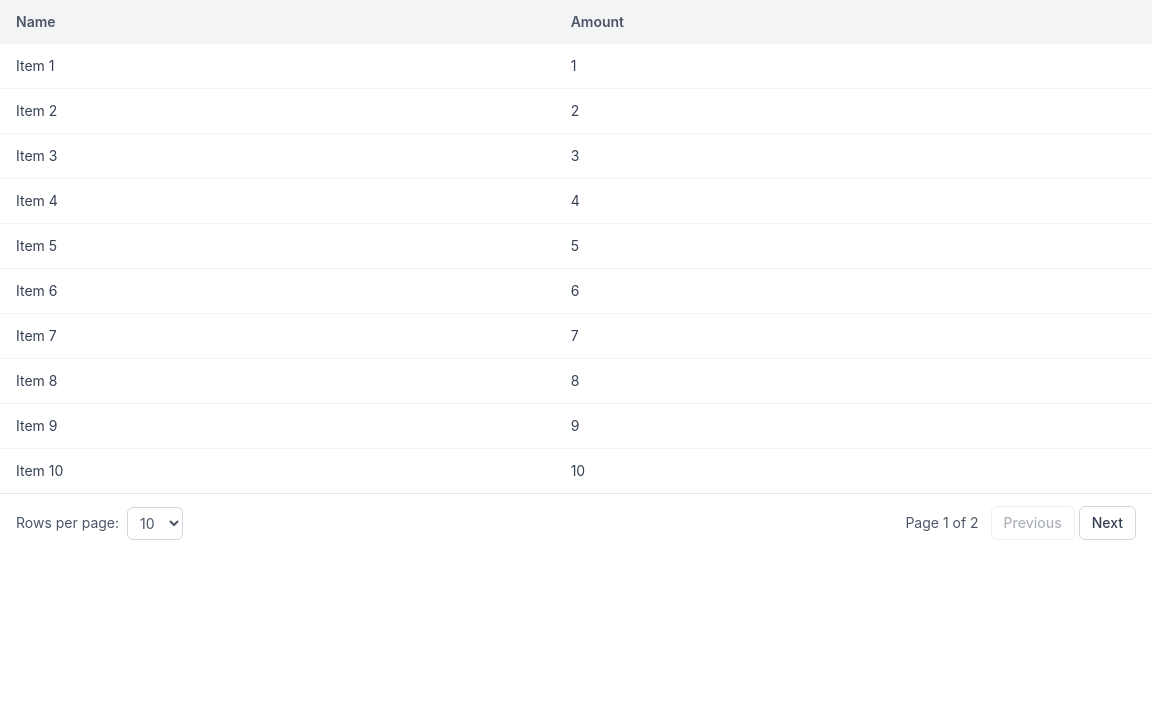
Test case: DashboardTable › should move to the next page
Click the button "Next" at (1107, 523), box [1079,506,1136,540]
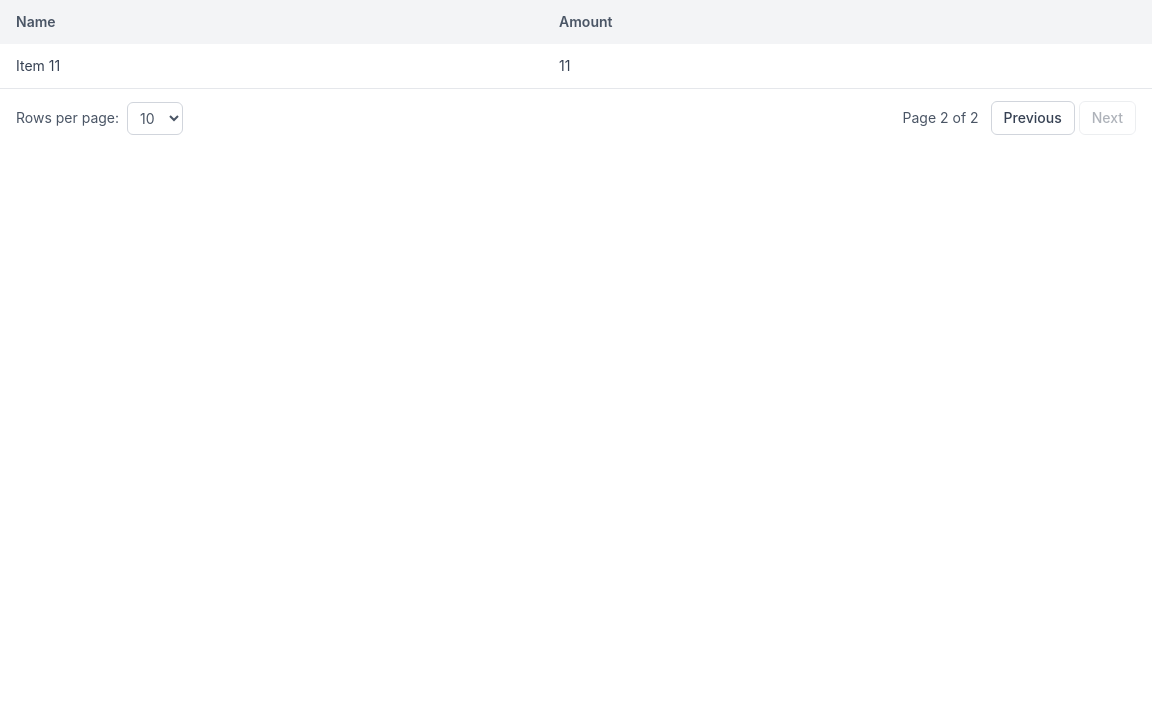
Now the text "Page 2 of 2" is shown, box [902,108,978,128]
Now the text "Item 11" is shown, box [0,44,543,88]
